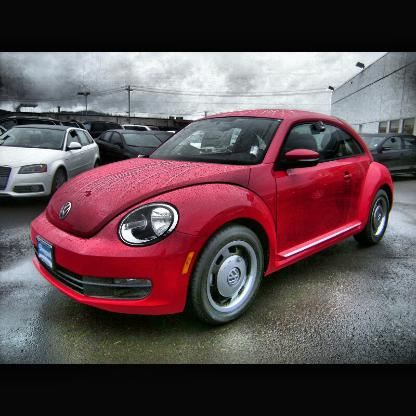Volkswagen Beetle Hatchback 2012: (32, 111, 396, 323)
